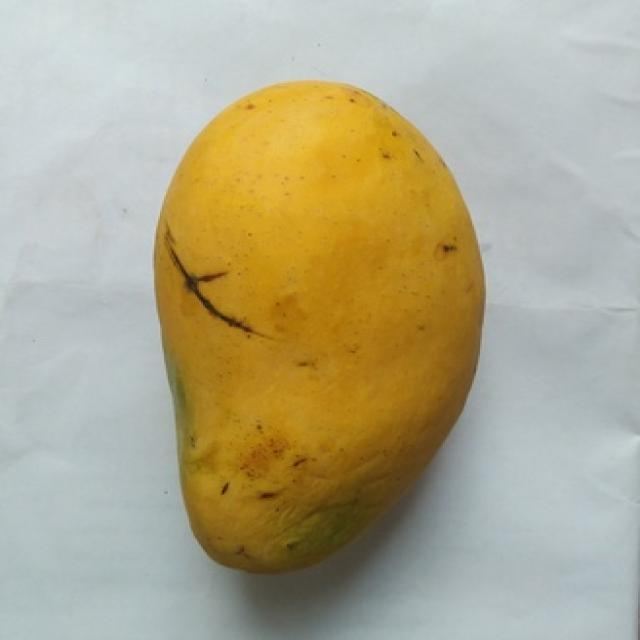Mango: (156, 81, 482, 571)
